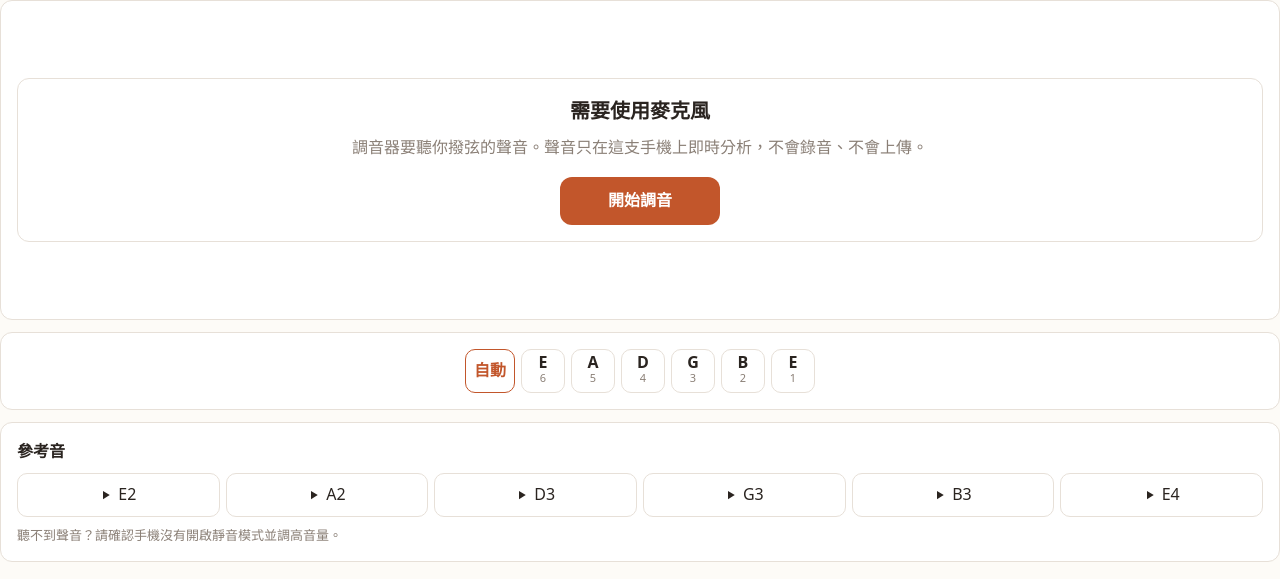
TunerPanel phases (TUN-50–59) › NotReadableError shows its copy, retry and reference tones
The image size is (1280, 579).
Click the button with test id "tuner-start". click: point(640, 201)
box: x1=560 y1=177 x2=720 y2=225
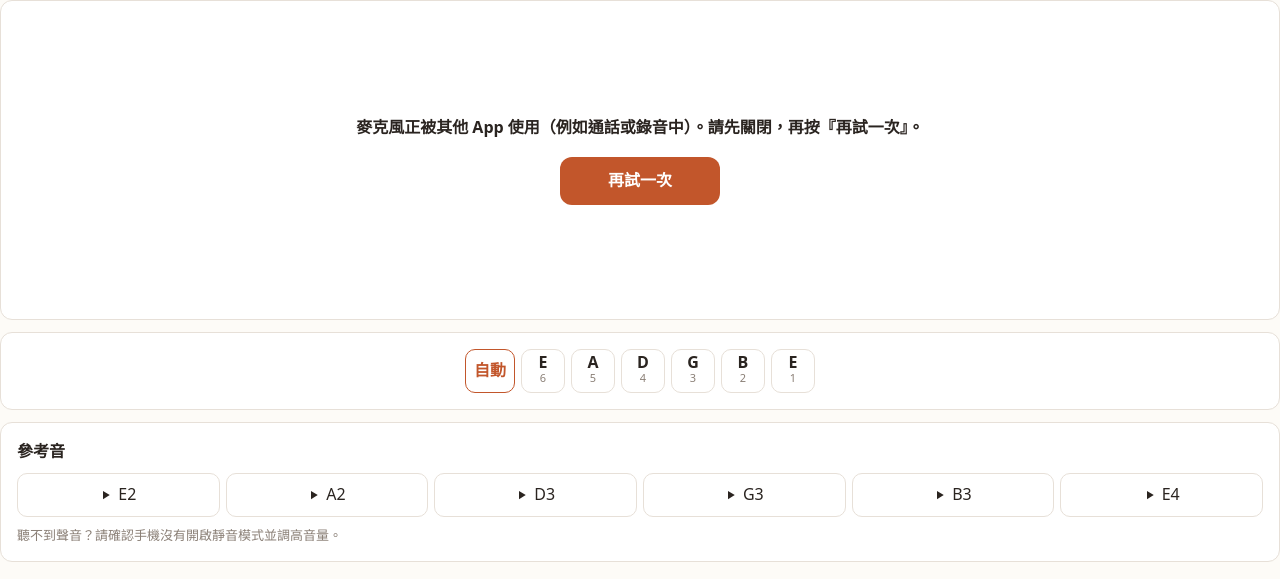
Expected: the element with test id "tuner-reference" is shown, x1=17 y1=439 x2=1263 y2=545
Now the text "麥克風正被其他 App 使用（例如通話或錄音中）。請先關閉，再按『再試一次』。" is shown, box x1=356 y1=116 x2=924 y2=138
Now the button with test id "tuner-retry" reads "再試一次", box x1=560 y1=157 x2=720 y2=205
